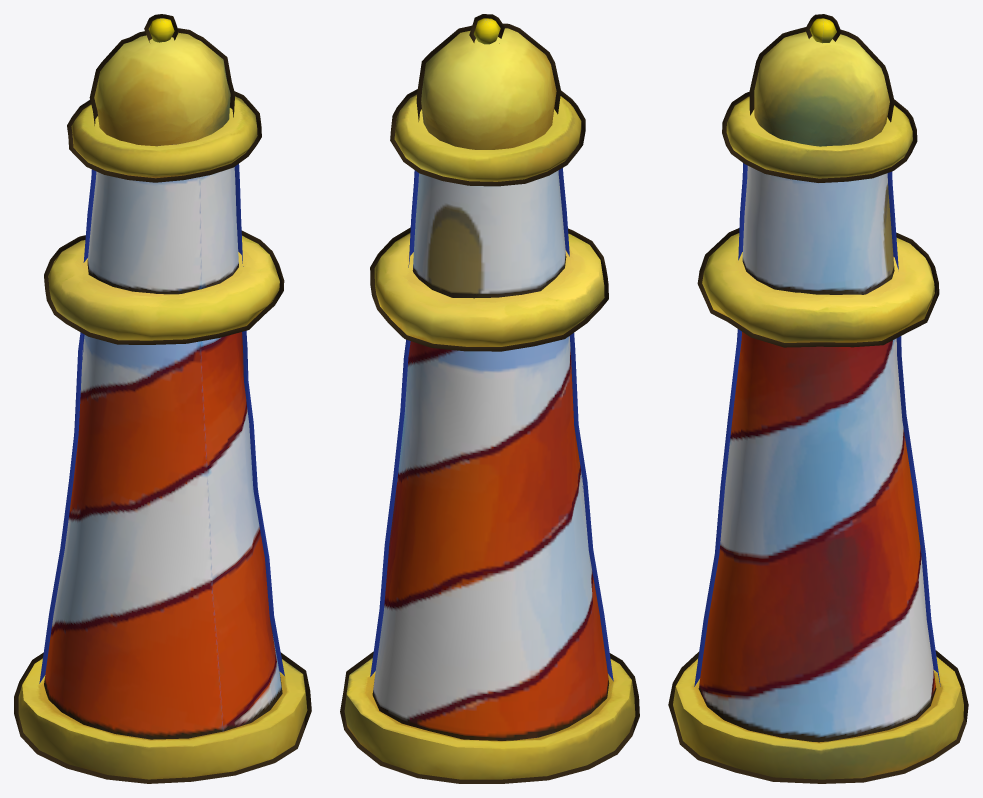
3 views of the same model, side by side, from view 1: azimuth 30°, elevation 25°; view 2: azimuth 150°, elevation 25°; view 3: azimuth 270°, elevation 25° (orthographic).
Parts seen in each view (by area): view 1: Object_23; view 2: Object_23; view 3: Object_23.
Part boxes in pixels (left/top/right/bottom): Object_23: left=14, top=14, right=311, bottom=783; Object_23: left=340, top=14, right=639, bottom=783; Object_23: left=668, top=14, right=968, bottom=783.
Bounding box in the file's own units: 28.44 × 74.17 × 28.48.
1 material, 1 textured.
